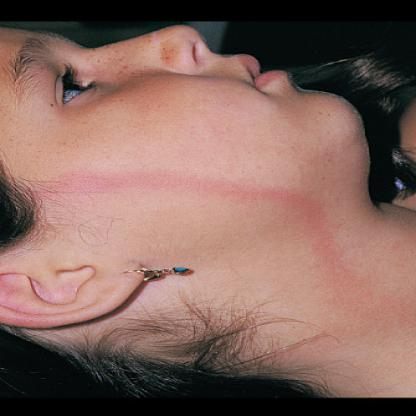Tick: (0, 166, 350, 366)
